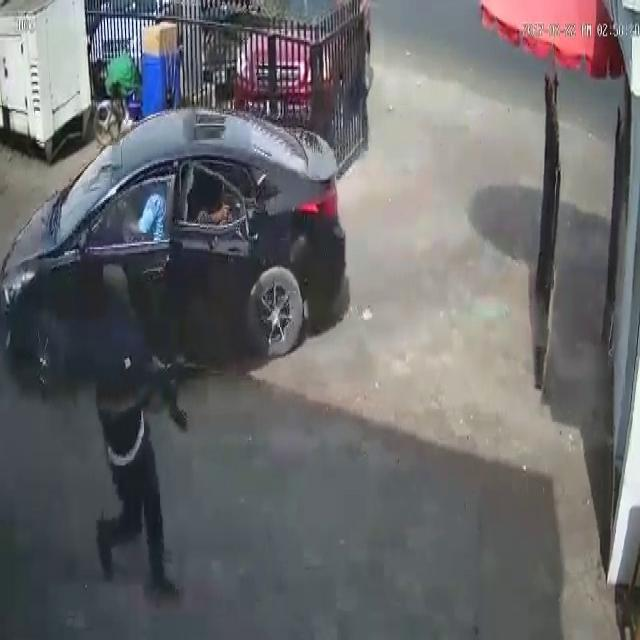weapon: (149, 340, 223, 433), (220, 186, 263, 222)
